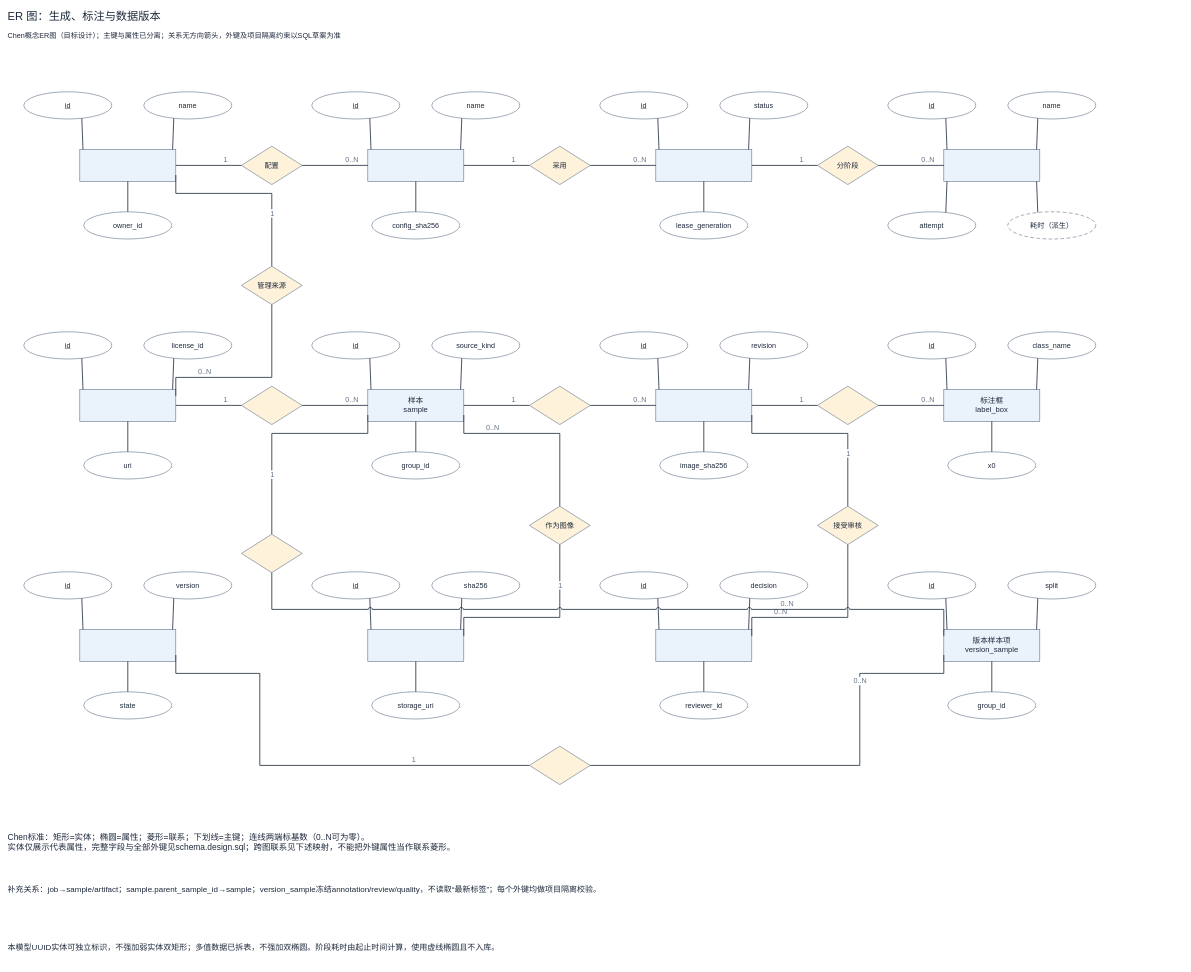
Some shapes in this 1191 by 972 pixel diagram are drawn without their labels. Each missing label, with the box of its shape:
产物 artifact: (367, 629, 464, 662)
任务 job: (655, 149, 752, 182)
任务阶段 job_stage: (943, 149, 1040, 182)
修订: (529, 386, 590, 425)
包含: (817, 386, 878, 425)
场景配置 scene_config: (367, 149, 464, 182)
审核决定 review_decision: (655, 629, 752, 662)
提供: (241, 386, 302, 425)
收录: (529, 746, 590, 785)
数据来源 source_record: (79, 389, 176, 422)
数据集版本 dataset_version: (79, 629, 176, 662)
标签修订 annotation_revision: (655, 389, 752, 422)
被引用: (241, 534, 302, 573)
项目 project: (79, 149, 176, 182)
